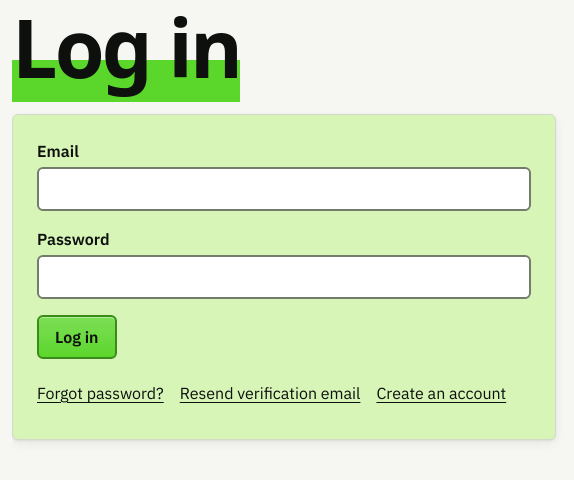
login page › still shows Forgot password? after a refused attempt
In the field labelled "Email": (284, 189) [37,167,531,211], type "owner@example.test"
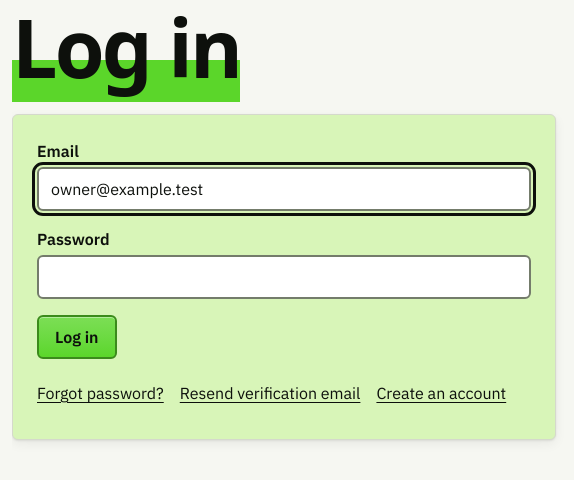
In the password field labelled "Password": (284, 277) [37,255,531,299], type "the-right-password-1"
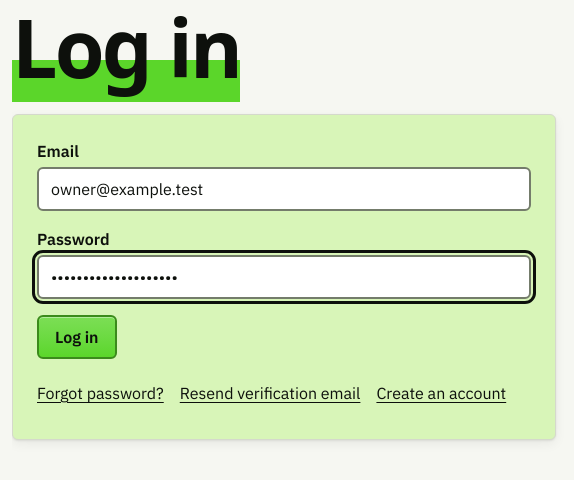
Click the button "Log in": (77, 337) [37,315,116,359]
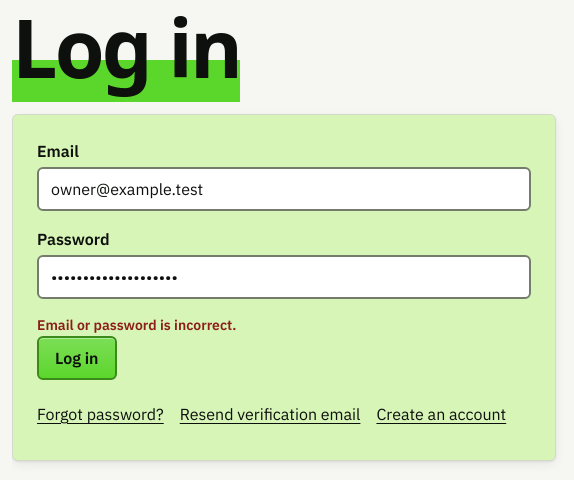
Expected: the link "Forgot password?" is shown, [37,404,164,424]
Now the message "Email or password is incorrect." is shown, box [37,316,236,334]
